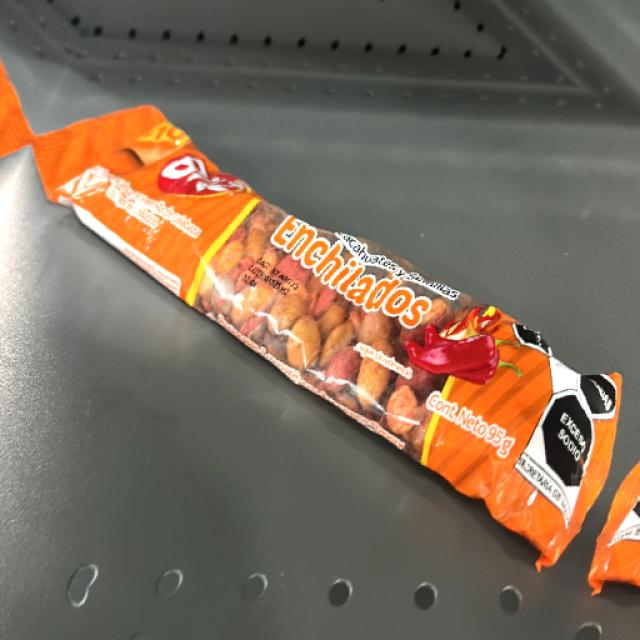bitzEnchilado95: (126, 172, 469, 354)
